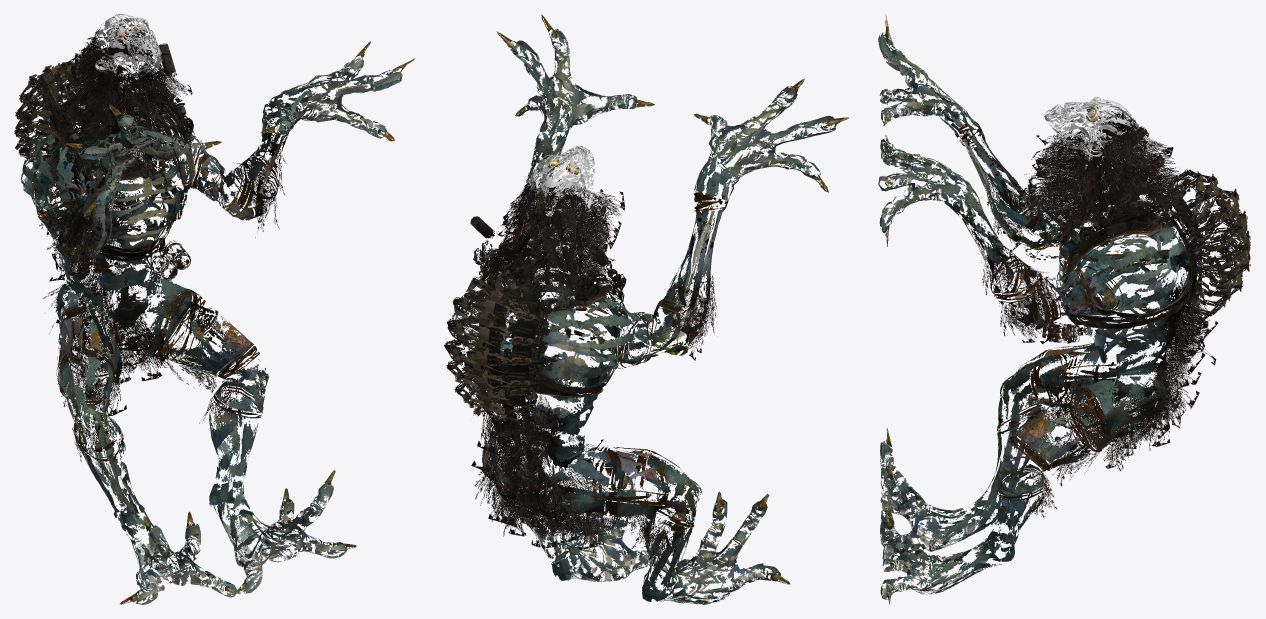
File: hdemon.obj
The picture shows the model from 3 angles, left to right: view 1: azimuth 30°, elevation 25°; view 2: azimuth 150°, elevation 25°; view 3: azimuth 270°, elevation 25°; orthographic projection. The views are drawn at different scales.
Visible parts, largest first — view 1: rdmobj04, rdmobj03, rdmobj01.002, rdmobj00.002, rdmobj01; view 2: rdmobj04, rdmobj03, rdmobj01.002, rdmobj00.002, rdmobj01; view 3: rdmobj04, rdmobj03, rdmobj01.002, rdmobj00.002, rdmobj01.
Part boxes in pixels (<box>): rdmobj04: <box>21,41,415,604</box>; rdmobj03: <box>39,22,286,461</box>; rdmobj01.002: <box>14,43,243,384</box>; rdmobj00.002: <box>95,14,162,75</box>; rdmobj01: <box>92,25,156,105</box>; rdmobj04: <box>452,14,849,604</box>; rdmobj03: <box>471,179,716,563</box>; rdmobj01.002: <box>444,216,628,490</box>; rdmobj00.002: <box>527,146,594,209</box>; rdmobj01: <box>524,187,588,250</box>; rdmobj04: <box>878,14,1191,604</box>; rdmobj03: <box>981,109,1218,517</box>; rdmobj01.002: <box>1024,126,1250,468</box>; rdmobj00.002: <box>1044,96,1133,156</box>; rdmobj01: <box>1067,115,1140,185</box>.
Bounding box in the file's own units: 1.03 × 1.47 × 1.
